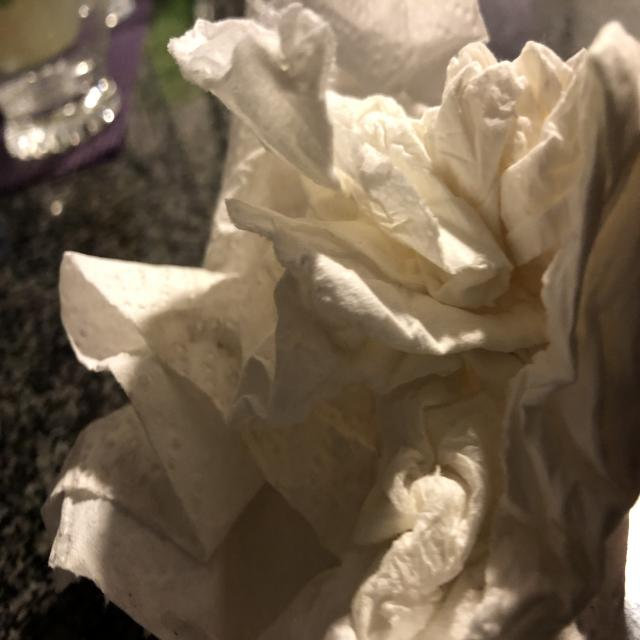kitchen paper: (163, 8, 640, 640), (47, 247, 562, 640), (194, 0, 516, 267)
